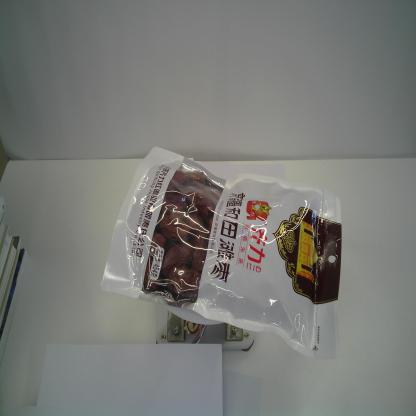Dried Food: (100, 146, 342, 361)
